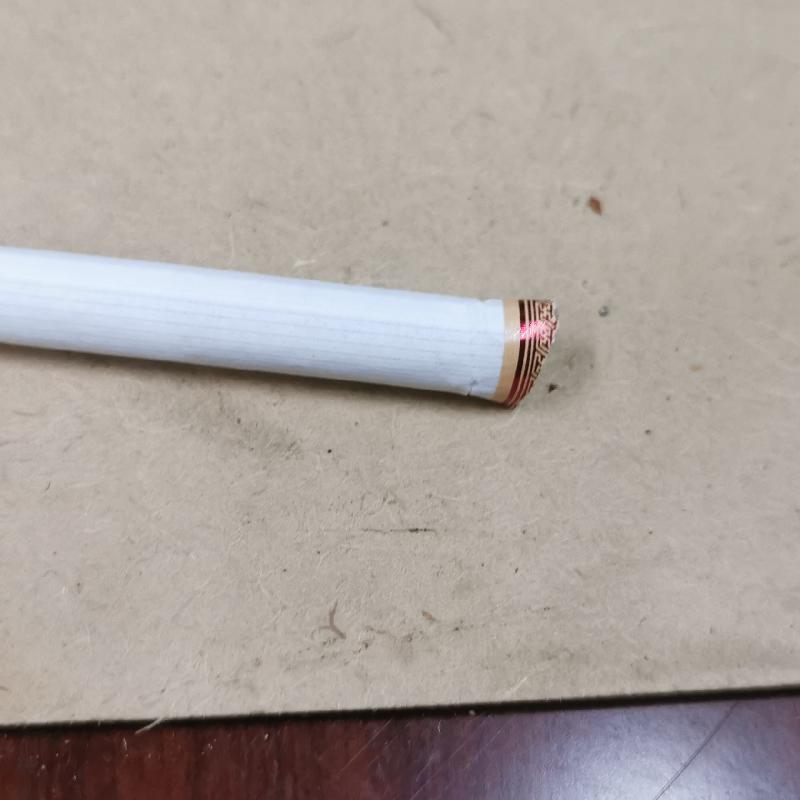cigarette: (5, 237, 557, 421)
